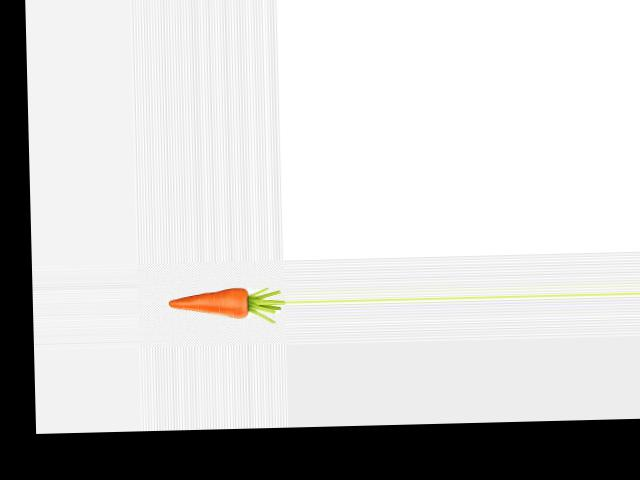carrot: (166, 285, 255, 324)
